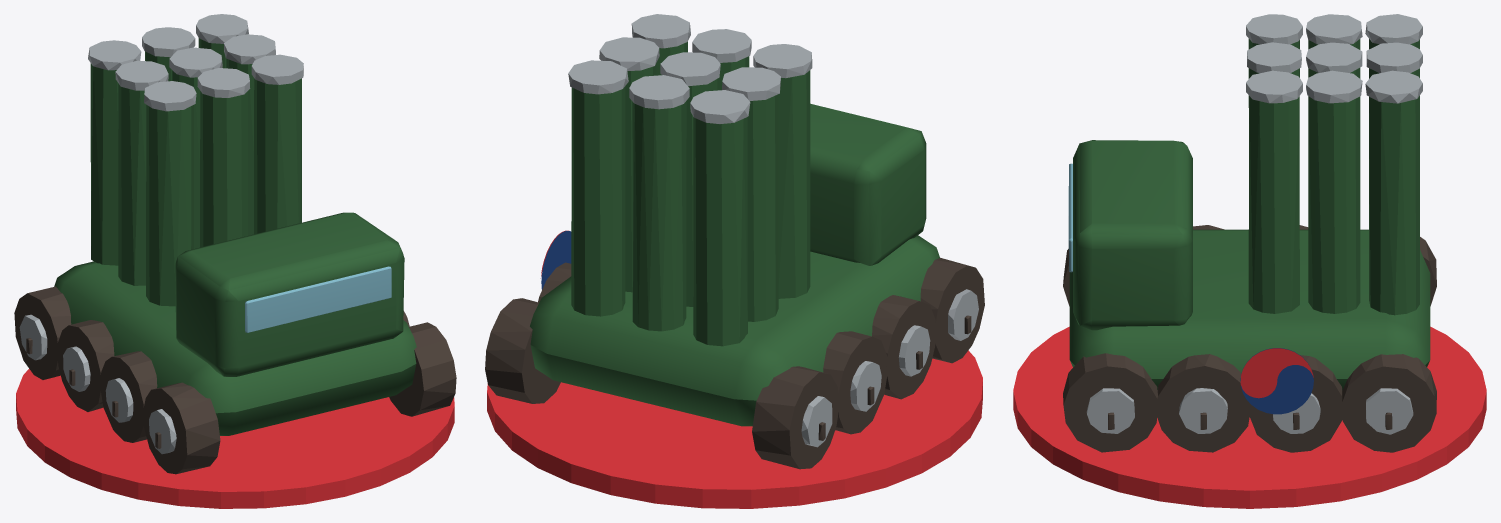
File: south_korea_missile_lod0.glb
3 renders of one model, left to right at view 1: azimuth 30°, elevation 25°; view 2: azimuth 150°, elevation 25°; view 3: azimuth 270°, elevation 25°, orthographic. The views are drawn at different scales.
Visible parts, largest first — view 1: body_hull, base_pedestal; view 2: body_hull, base_pedestal; view 3: body_hull, base_pedestal.
Boxes of the visible parts, left/top/right/bottom form: body_hull: left=14, top=14, right=456, bottom=474; base_pedestal: left=16, top=368, right=454, bottom=508; body_hull: left=485, top=14, right=984, bottom=469; base_pedestal: left=487, top=350, right=982, bottom=508; body_hull: left=1063, top=14, right=1436, bottom=452; base_pedestal: left=1013, top=326, right=1486, bottom=508.
Size of the model in its own units: 0.78 by 0.6439 by 0.78.
